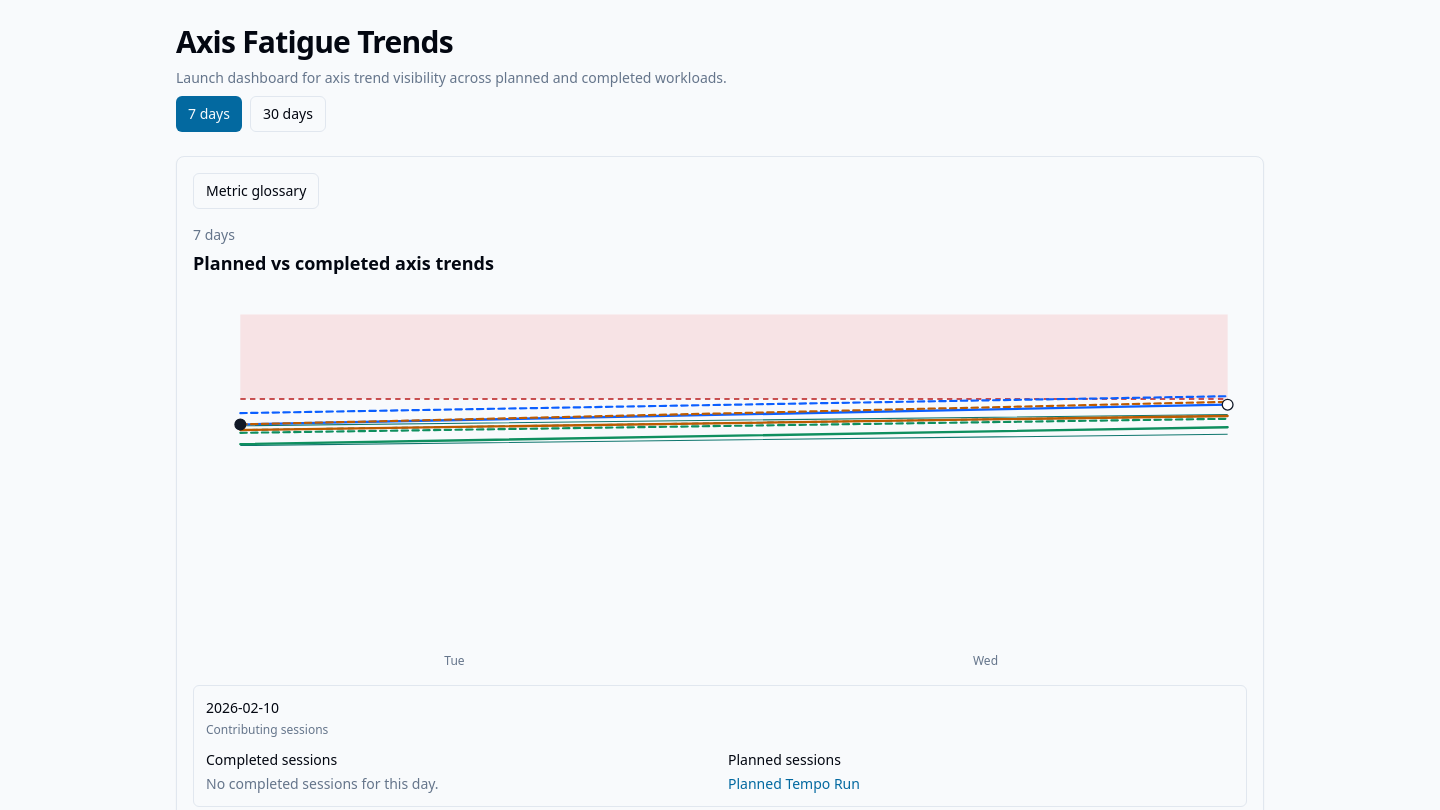
it: AxisFatigueTrendsDashboard › renders selectable windows and switches the active window
What coordinates should you click on to do the following:
click the button "30 days"
I would click on:
 (288, 114)
Its box is [250,96,326,132].
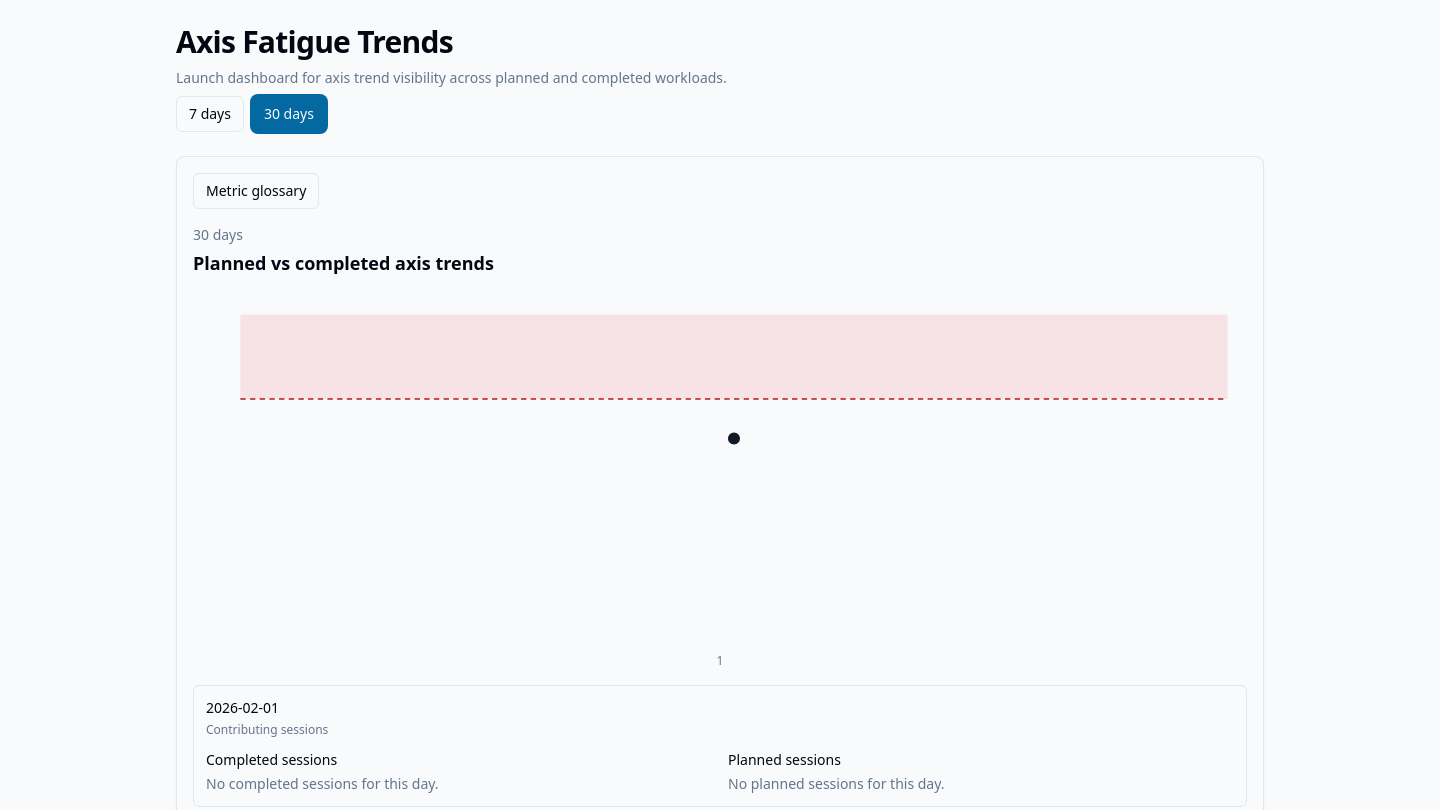
Expected: the text "2026-02-01" is shown, [206,698,279,717]
